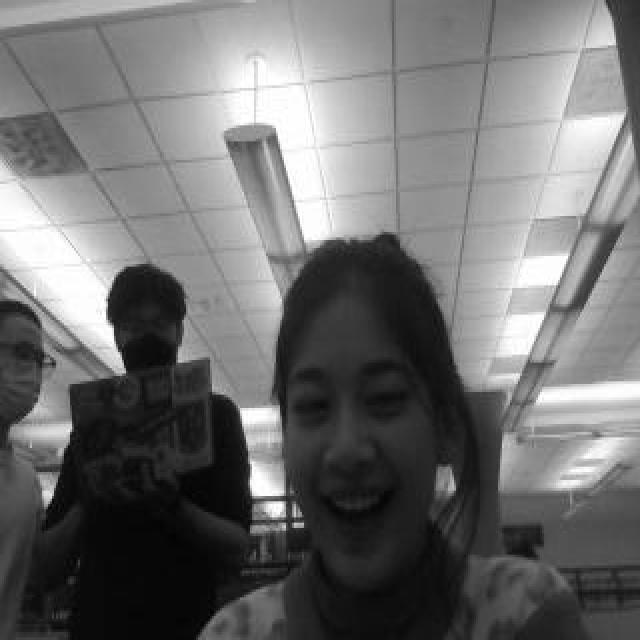Focused: (278, 304, 434, 592)
